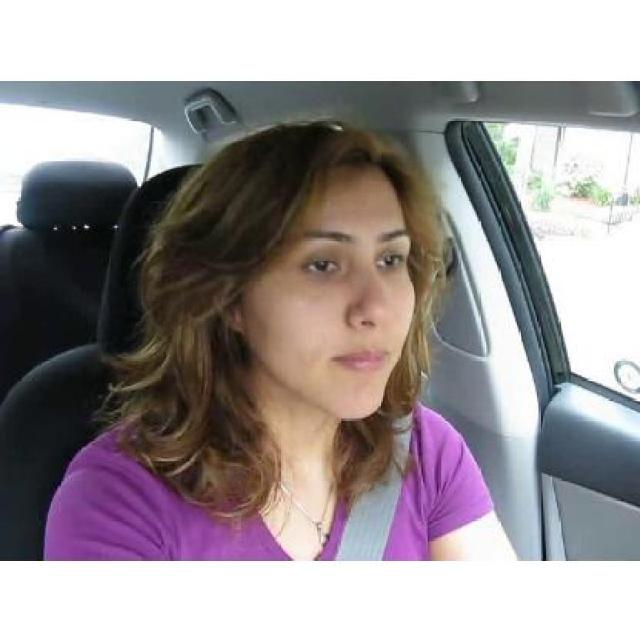attentif: (216, 115, 416, 420)
